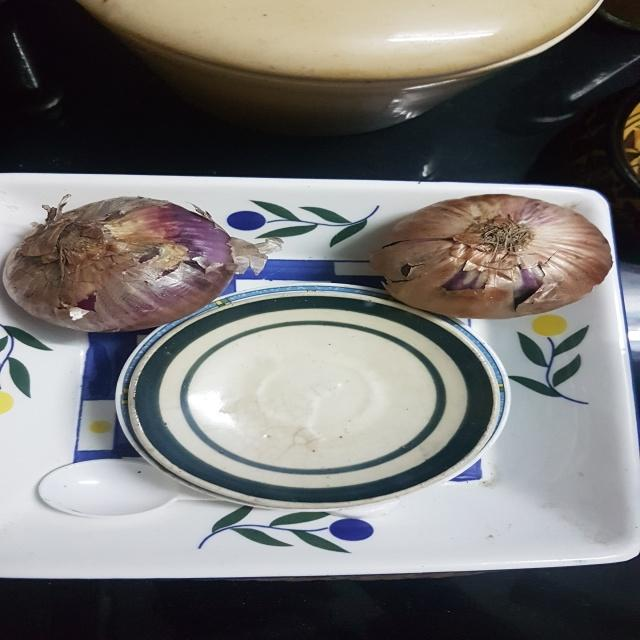onion: (1, 181, 270, 347), (362, 176, 626, 336)
